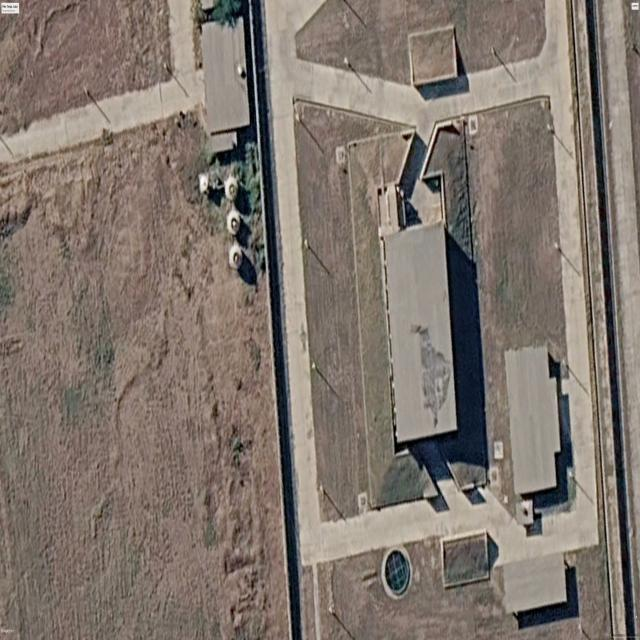Home: (382, 222, 458, 443), (504, 347, 561, 495), (200, 16, 251, 152), (503, 553, 567, 612)
